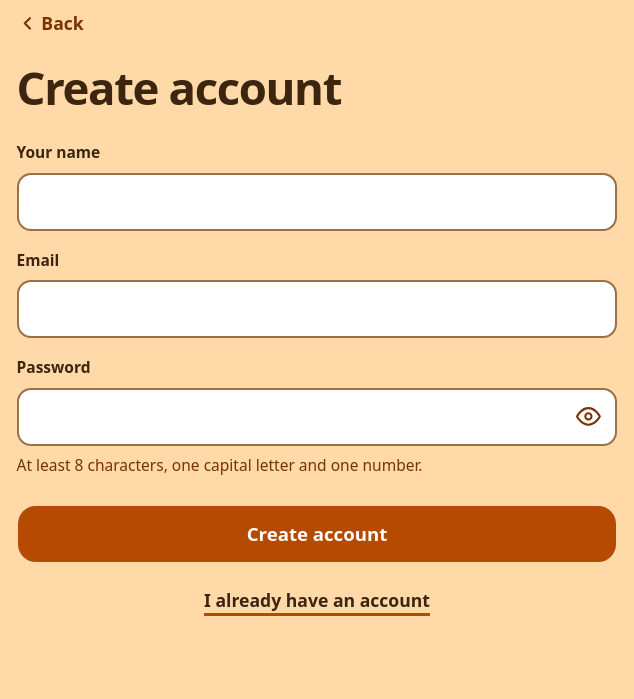
SignUpScreen › shows the en text for the answer AUTH_PASSWORD_TOO_WEAK inline
Type "Filip" into the field labelled "Your name" at (317, 202), box 16,173 -> 618,231
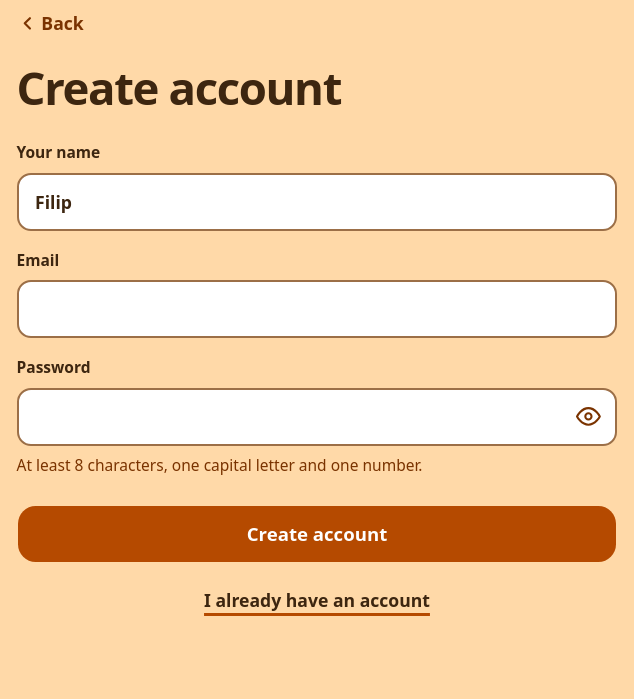
Type "filip@example.com" into the field labelled "Email" at (317, 309), box 16,280 -> 618,338
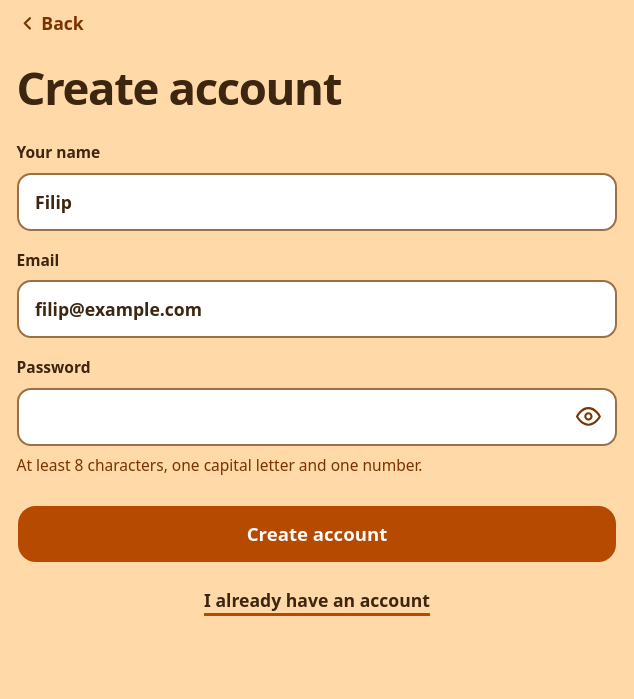
Type "Passw0rdOk" into the password field labelled "Password" at (317, 417), box 16,388 -> 618,446
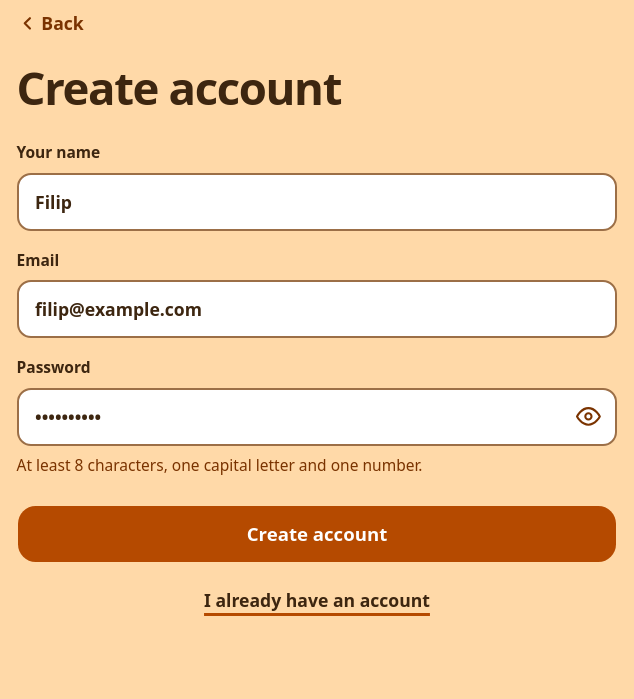
Click the button "Create account" at (317, 534), box 16,506 -> 618,564
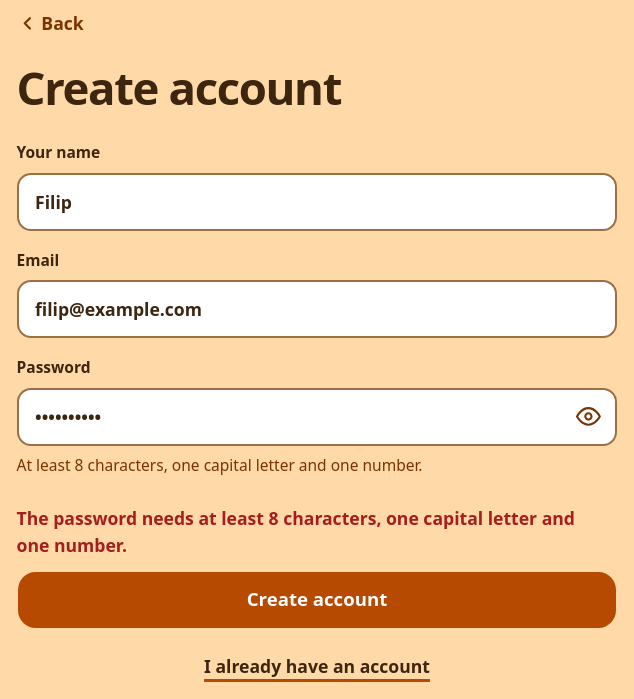
Now the message reads "The password needs at least 8 characters, one capital letter and one number.", box 16,506 -> 575,557
